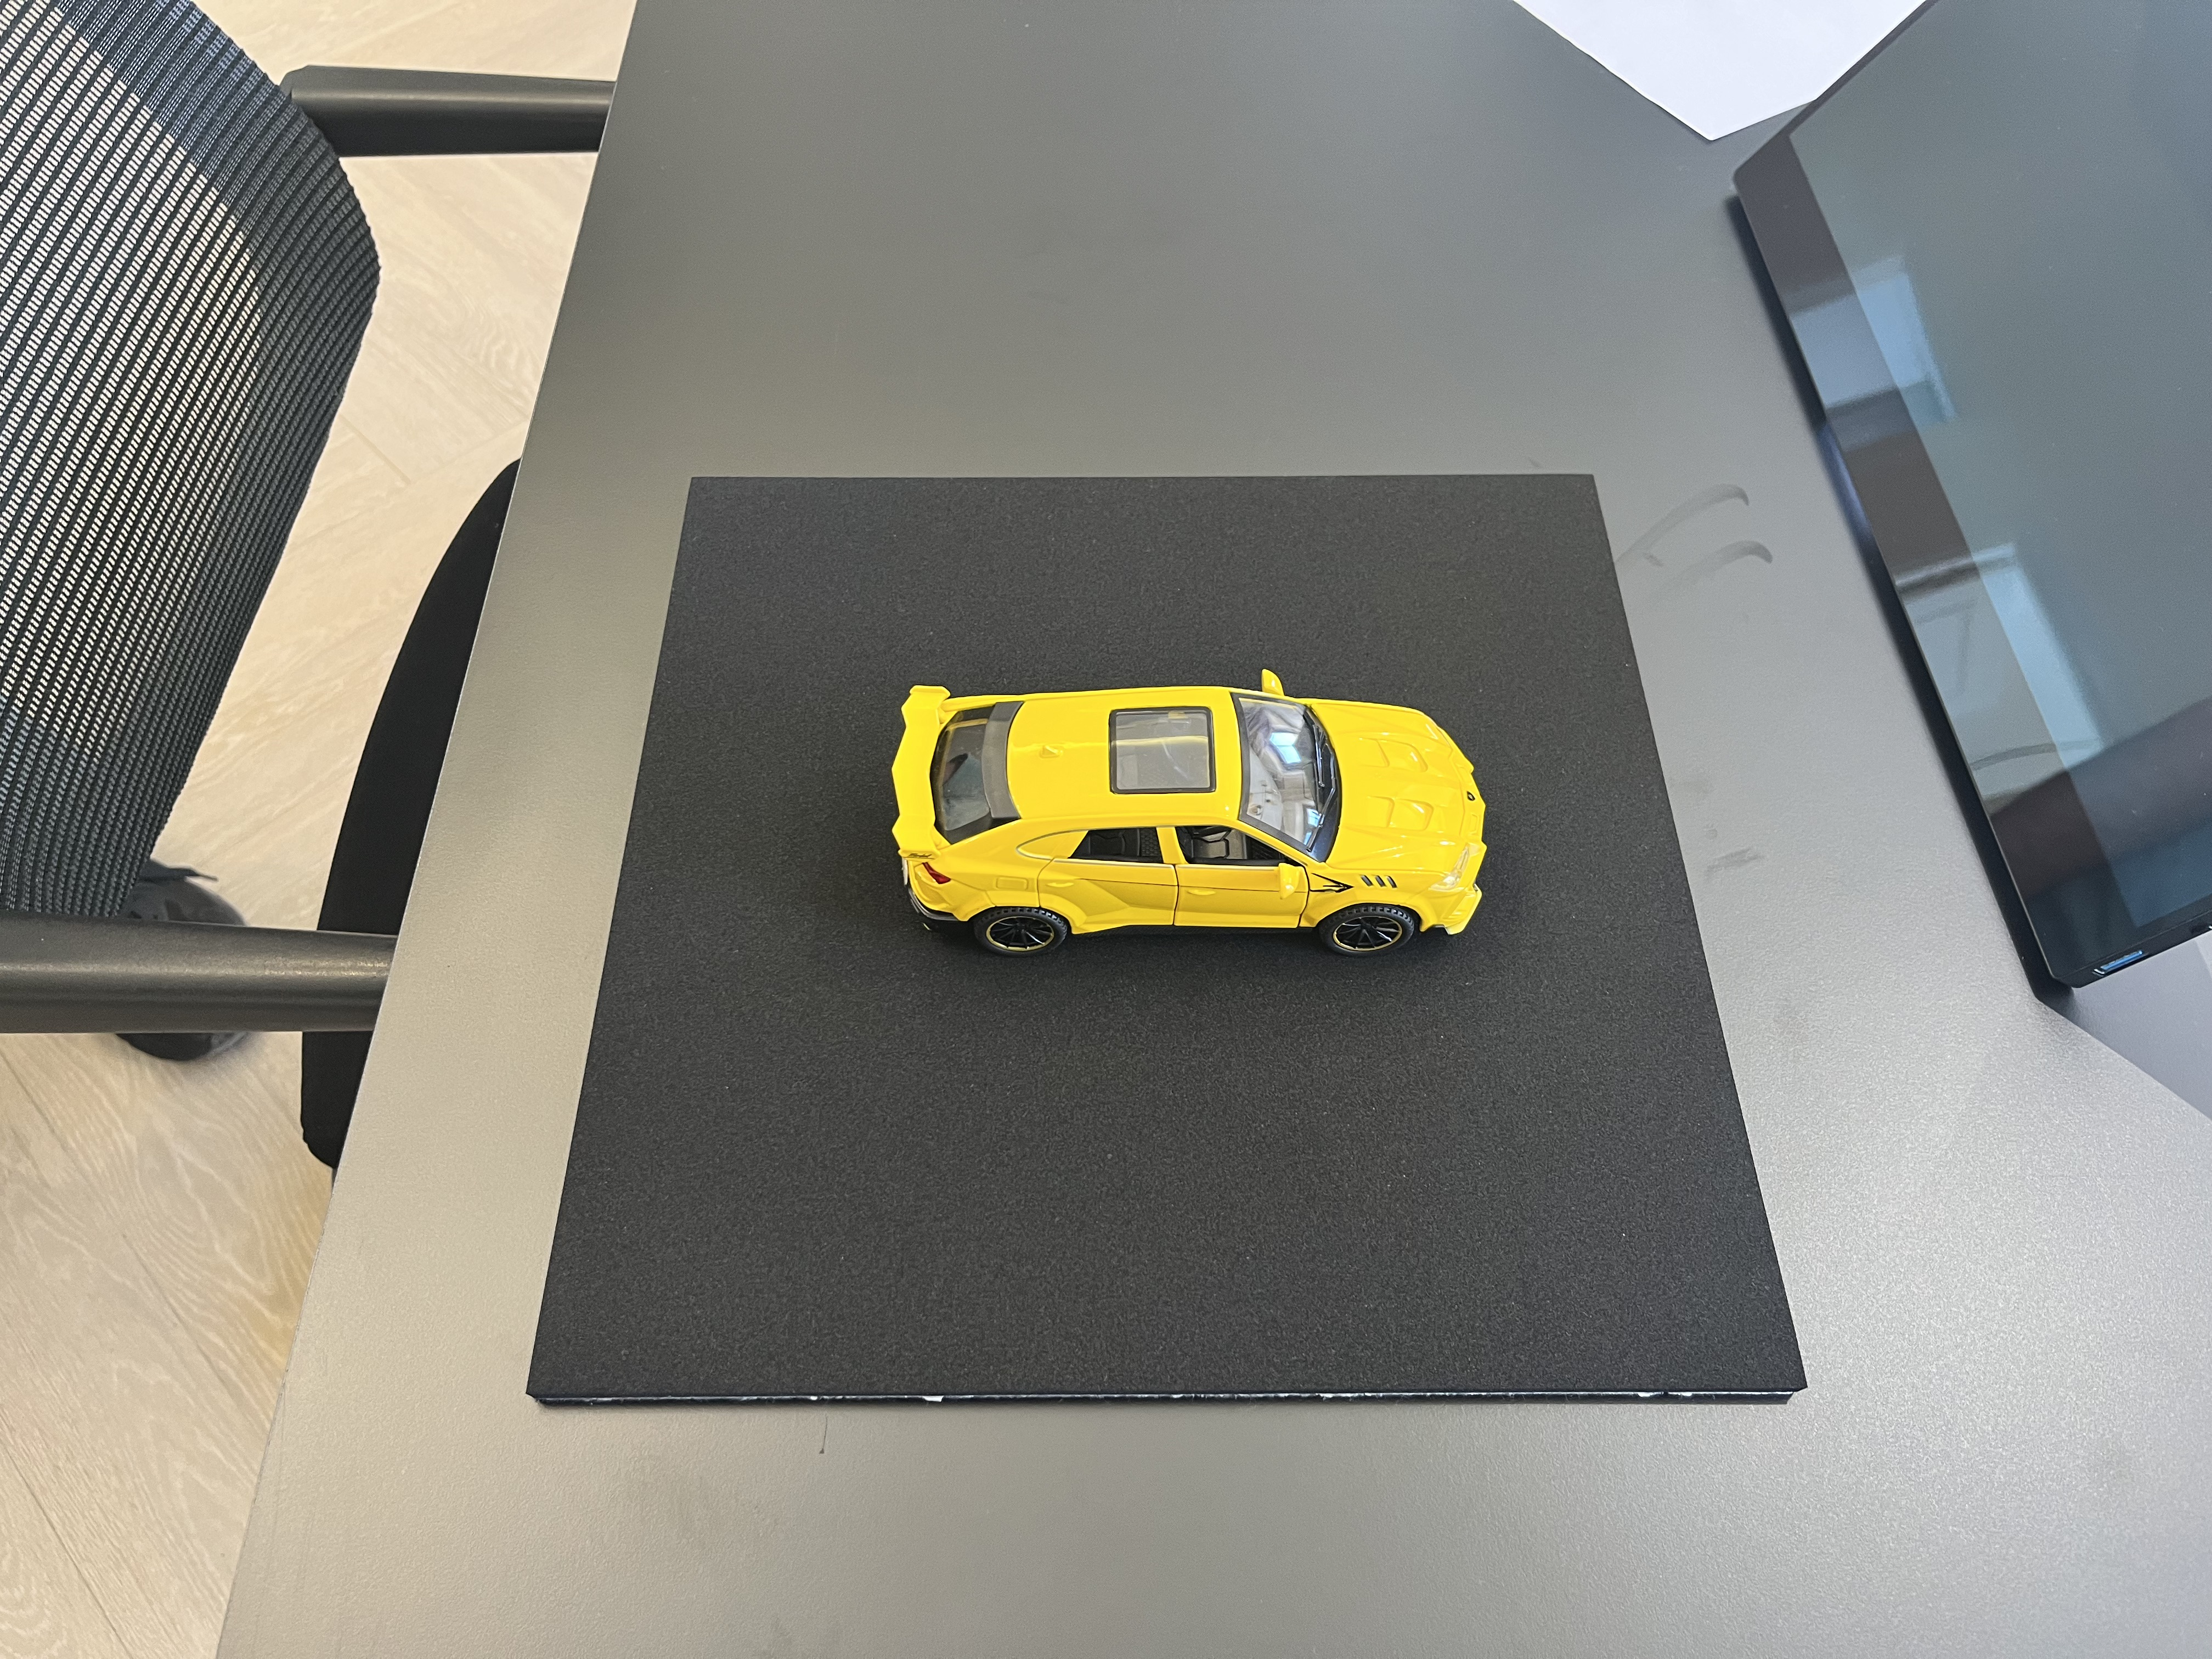lambo: (885, 664, 1487, 957)
